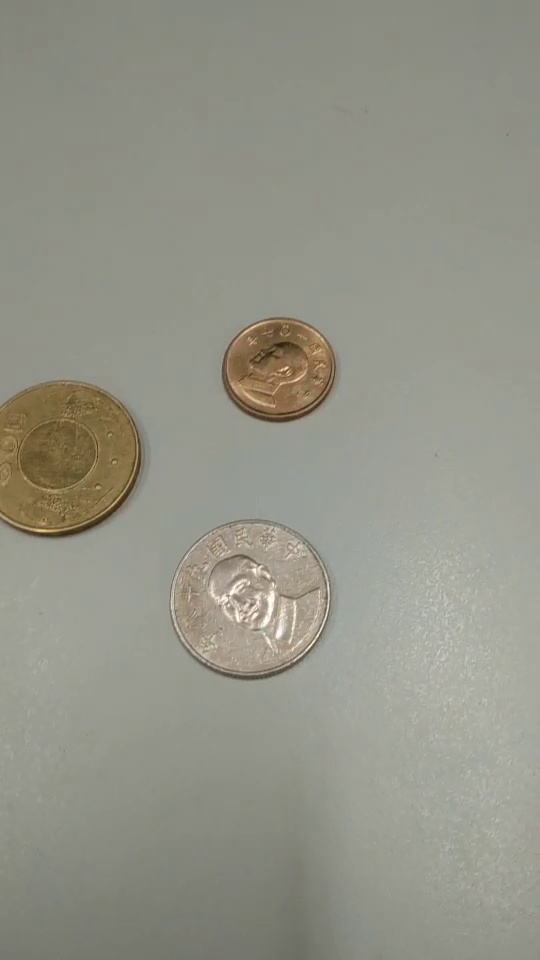NT$ 1: (223, 318, 338, 425)
NT$ 10: (171, 519, 333, 680)
NT$ 50: (1, 377, 144, 539)
